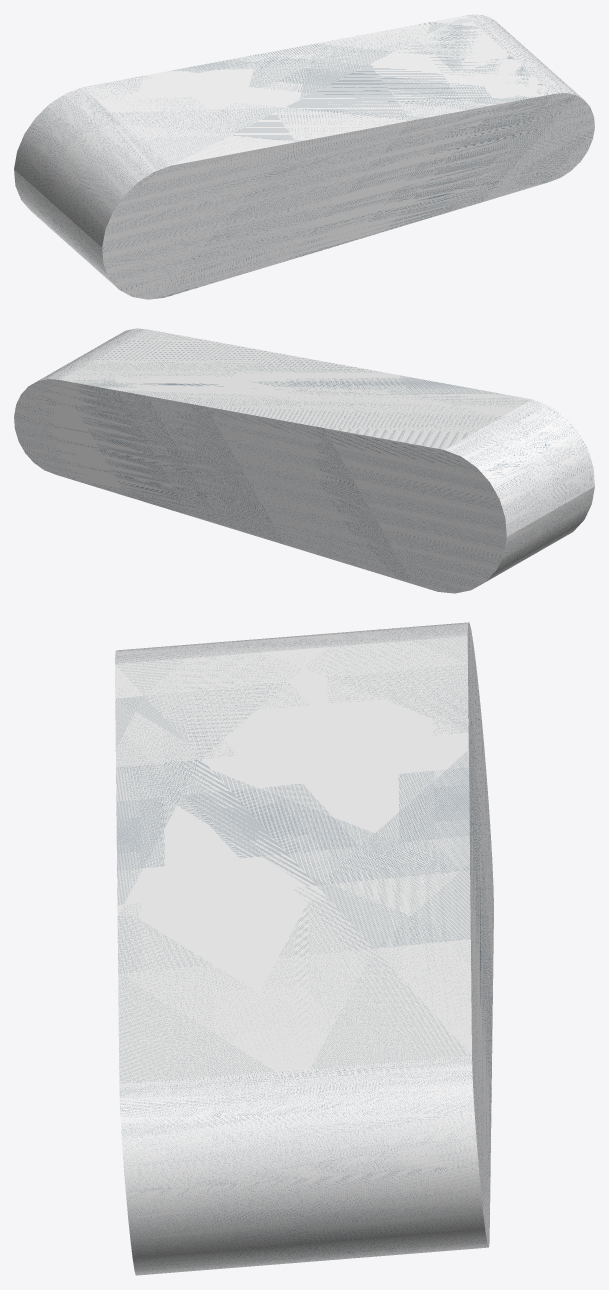
File: p1LeftFlipper.dae
The picture shows the model from 3 angles, top to bottom: view 1: azimuth 30°, elevation 25°; view 2: azimuth 150°, elevation 25°; view 3: azimuth 270°, elevation 25°; orthographic projection. The views are drawn at different scales.
Parts seen in each view (by area): view 1: SketchUp; view 2: SketchUp; view 3: SketchUp.
Boxes of the visible parts, box(x1,y1,x2,y2) form: SketchUp: box(14, 14, 594, 299); SketchUp: box(14, 328, 594, 593); SketchUp: box(115, 622, 493, 1275).
Bounding box in the file's own units: 443 × 148 × 130.
